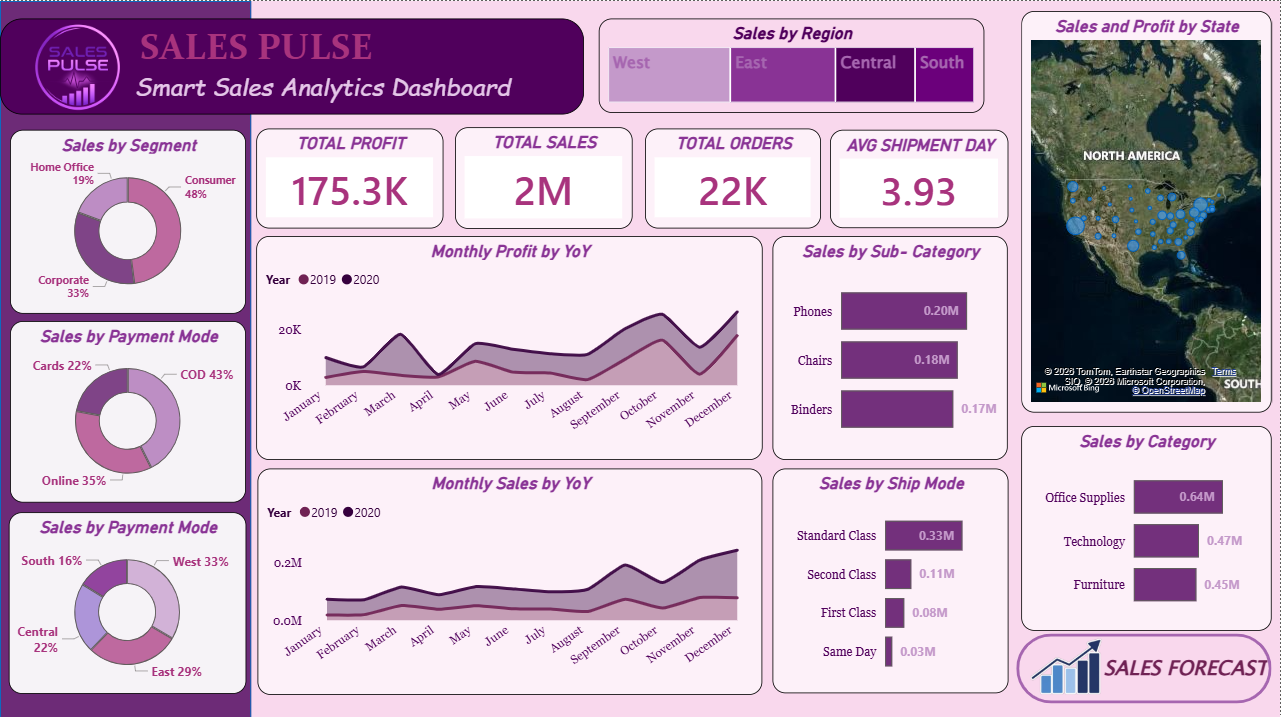

Layout of this report page (visuals, bound fields, positions):
{"tool":"powerbi","page":{"name":"DASHBOARD","canvas":[1280,720],"ordinal":0},"visuals":[{"type":"shape","box":[0,0,251.2,720],"z":0},{"type":"clusteredBarChart","title":"Sales by Category","fields":{"Category":["SuperStore Sales DataSet.Category"],"Y":["Sum(SuperStore Sales DataSet.Sales)"]},"box":[1021.2,425,250,205],"z":1000},{"type":"clusteredBarChart","title":"Sales by Sub- Category","fields":{"Category":["SuperStore Sales DataSet.Sub-Category"],"Y":["Sum(SuperStore Sales DataSet.Sales)"]},"box":[772.5,235,235,223.8],"z":2000},{"type":"clusteredBarChart","title":"Sales by Ship Mode","fields":{"Y":["Sum(SuperStore Sales DataSet.Sales)"],"Category":["SuperStore Sales DataSet.Ship Mode"]},"box":[772.5,467.5,236.2,225],"z":3000},{"type":"stackedAreaChart","title":"Monthly Sales by YoY","fields":{"Y":["Sum(SuperStore Sales DataSet.Sales)"],"Category":["SuperStore Sales DataSet.Order Date.Variation.Date Hierarchy.Month","SuperStore Sales DataSet.Order Date.Variation.Date Hierarchy.Day"],"Series":["SuperStore Sales DataSet.Order Date.Variation.Date Hierarchy.Year"]},"box":[257.5,467.5,505,226.2],"z":4000},{"type":"stackedAreaChart","title":"Monthly Profit by YoY","fields":{"Category":["SuperStore Sales DataSet.Order Date.Variation.Date Hierarchy.Month","SuperStore Sales DataSet.Order Date.Variation.Date Hierarchy.Day"],"Series":["SuperStore Sales DataSet.Order Date.Variation.Date Hierarchy.Year"],"Y":["Sum(SuperStore Sales DataSet.Profit)"]},"box":[256.2,235,506.2,223.8],"z":5000},{"type":"map","title":"Sales and Profit by State","fields":{"Category":["SuperStore Sales DataSet.State"],"Size":["Sum(SuperStore Sales DataSet.Sales)"]},"box":[1021.2,10,250,401.2],"z":6000},{"type":"donutChart","title":" Sales by Payment Mode","fields":{"Y":["Sum(SuperStore Sales DataSet.Sales)"],"Category":["SuperStore Sales DataSet.Payment Mode"]},"box":[10,320,236.2,181.2],"z":7000},{"type":"treemap","title":"Sales by Region","fields":{"Group":["SuperStore Sales DataSet.Region"],"Values":["Sum(SuperStore Sales DataSet.Sales)"]},"box":[598.6,17.1,385.7,94.3],"z":8000},{"type":"textbox","box":[0,17.5,583.8,96.2],"z":9000,"group":"g1"},{"type":"cardVisual","title":"TOTAL PROFIT","fields":{"Data":["Sum(SuperStore Sales DataSet.Profit)"]},"box":[256.2,127.5,187.5,100],"z":9000},{"type":"image","box":[0,17.5,154.8,102.5],"z":10000,"group":"g1"},{"type":"cardVisual","title":"TOTAL ORDERS","fields":{"Data":["Sum(SuperStore Sales DataSet.Quantity)"]},"box":[645,127.5,176.2,100],"z":10000},{"type":"cardVisual","title":"TOTAL SALES","fields":{"Data":["Sum(SuperStore Sales DataSet.Sales)"]},"box":[455,126.2,177.5,101.2],"z":11000},{"type":"cardVisual","title":"AVG SHIPMENT DAY","fields":{"Data":["Avg(SuperStore Sales DataSet.Avg Delivery)"]},"box":[830,128.8,178.8,98.8],"z":12000},{"type":"actionButton","box":[1016.2,633.1,255.4,70],"z":13000},{"type":"group","id":"g1","title":"Group 1","box":[0,17.5,583.8,102.5],"z":14000},{"type":"donutChart","title":" Sales by Payment Mode","fields":{"Y":["Sum(SuperStore Sales DataSet.Sales)"],"Category":["SuperStore Sales DataSet.Region"]},"box":[8.8,511.2,237.5,181.2],"z":15000},{"type":"donutChart","title":"Sales by Segment","fields":{"Category":["SuperStore Sales DataSet.Segment"],"Y":["Sum(SuperStore Sales DataSet.Sales)"]},"box":[10,128.8,236.2,183.8],"z":16000},{"type":"image","box":[1022.3,627.7,87.7,76.2],"z":17000}]}

Visuals, with their boxes in screenshot pixels (x1, y1, x2, y2), scaled from the page's 1280x720 canvas onto the 1281x717 screenshot:
shape: {"x1": 0, "y1": 0, "x2": 251, "y2": 716}
"Sales by Category" clusteredBarChart: {"x1": 1022, "y1": 423, "x2": 1272, "y2": 627}
"Sales by Sub- Category" clusteredBarChart: {"x1": 773, "y1": 234, "x2": 1008, "y2": 457}
"Sales by Ship Mode" clusteredBarChart: {"x1": 773, "y1": 466, "x2": 1009, "y2": 690}
"Monthly Sales by YoY" stackedAreaChart: {"x1": 258, "y1": 466, "x2": 763, "y2": 691}
"Monthly Profit by YoY" stackedAreaChart: {"x1": 256, "y1": 234, "x2": 763, "y2": 457}
"Sales and Profit by State" map: {"x1": 1022, "y1": 10, "x2": 1272, "y2": 409}
" Sales by Payment Mode" donutChart: {"x1": 10, "y1": 319, "x2": 246, "y2": 499}
"Sales by Region" treemap: {"x1": 599, "y1": 17, "x2": 985, "y2": 111}
textbox: {"x1": 0, "y1": 17, "x2": 584, "y2": 113}
"TOTAL PROFIT" cardVisual: {"x1": 256, "y1": 127, "x2": 444, "y2": 227}
image: {"x1": 0, "y1": 17, "x2": 155, "y2": 120}
"TOTAL ORDERS" cardVisual: {"x1": 646, "y1": 127, "x2": 822, "y2": 227}
"TOTAL SALES" cardVisual: {"x1": 455, "y1": 126, "x2": 633, "y2": 226}
"AVG SHIPMENT DAY" cardVisual: {"x1": 831, "y1": 128, "x2": 1010, "y2": 227}
actionButton: {"x1": 1017, "y1": 630, "x2": 1273, "y2": 700}
"Group 1" group: {"x1": 0, "y1": 17, "x2": 584, "y2": 120}
" Sales by Payment Mode" donutChart: {"x1": 9, "y1": 509, "x2": 246, "y2": 690}
"Sales by Segment" donutChart: {"x1": 10, "y1": 128, "x2": 246, "y2": 311}
image: {"x1": 1023, "y1": 625, "x2": 1111, "y2": 701}
